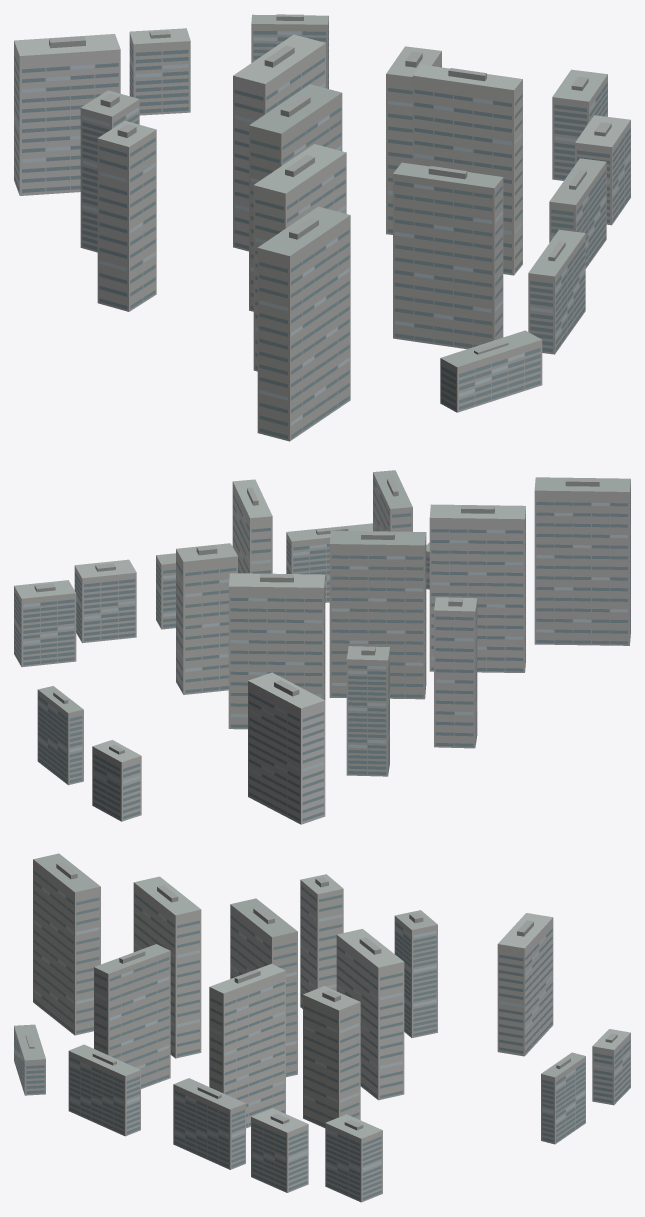
The model's file is apt-a10024615.glb.
The picture shows the model from 3 angles, top to bottom: view 1: azimuth 30°, elevation 25°; view 2: azimuth 150°, elevation 25°; view 3: azimuth 270°, elevation 25°; orthographic projection. The views are drawn at different scales.
Visible parts, largest first — view 1: apt-a10024615; view 2: apt-a10024615; view 3: apt-a10024615.
Part boxes in pixels (x1,y1,x2,y2): apt-a10024615: [14, 14, 630, 441]; apt-a10024615: [14, 470, 630, 824]; apt-a10024615: [14, 853, 630, 1202].
Size of the model in its own units: 252 by 84 by 319.
